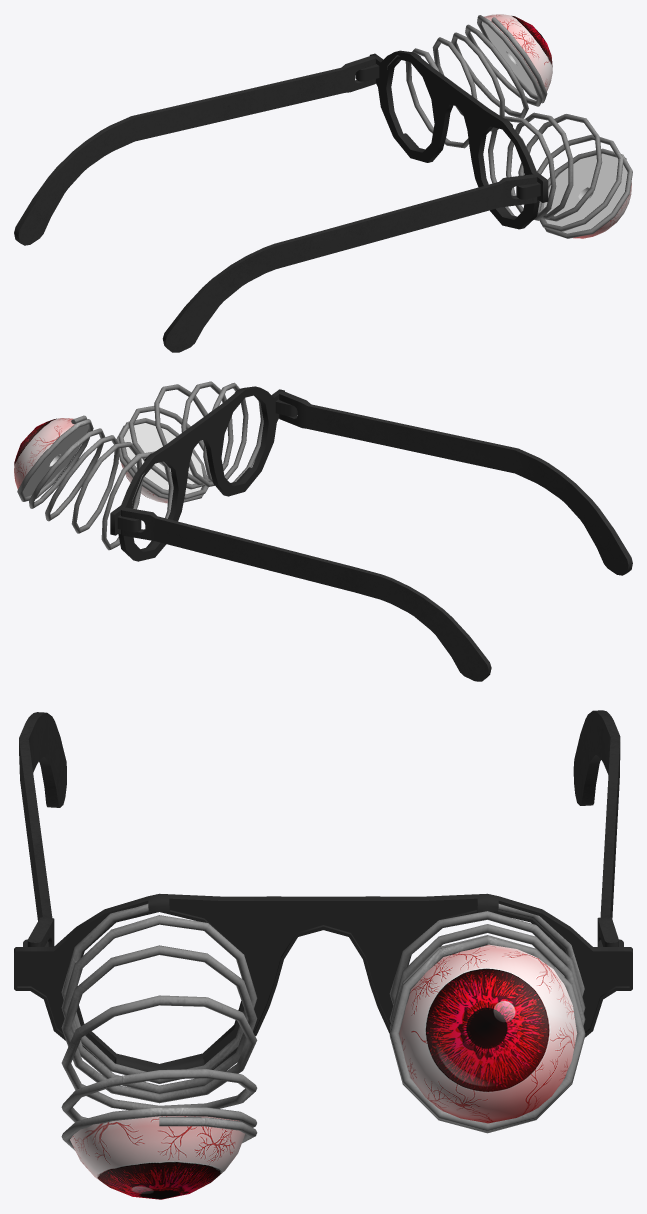
The model's file is GlassSketch.fbx.
3 renders of one model, top to bottom at view 1: azimuth 30°, elevation 25°; view 2: azimuth 150°, elevation 25°; view 3: azimuth 270°, elevation 25°, orthographic. The views are drawn at different scales.
Parts seen in each view (by area): view 1: COPPY; view 2: COPPY; view 3: COPPY.
Boxes of the visible parts, <box> form: COPPY: <box>14,14,632,352</box>; COPPY: <box>14,381,632,681</box>; COPPY: <box>14,710,632,1199</box>.
Bounding box in the file's own units: 998 × 277 × 594.
